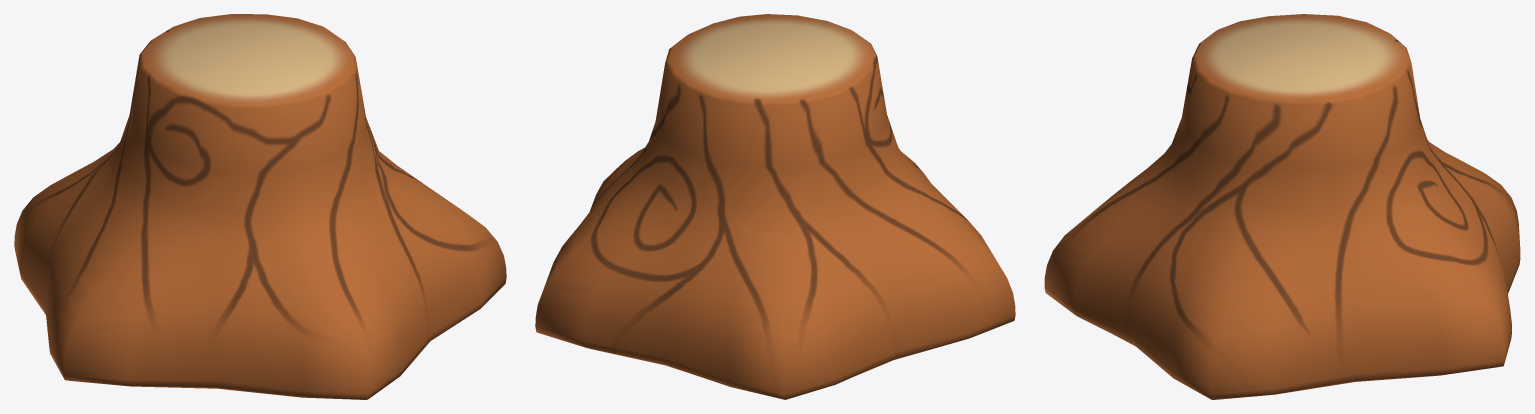
Rendered from cutted tree.fbx.
The picture shows the model from 3 angles, left to right: view 1: azimuth 30°, elevation 25°; view 2: azimuth 150°, elevation 25°; view 3: azimuth 270°, elevation 25°; orthographic projection. The views are drawn at different scales.
Visible parts, largest first — view 1: cutted tree; view 2: cutted tree; view 3: cutted tree.
Part boxes in pixels (bbox=[...]): cutted tree: bbox=[14, 14, 506, 399]; cutted tree: bbox=[535, 14, 1015, 399]; cutted tree: bbox=[1044, 14, 1520, 399].
Bounding box in the file's own units: 141 × 77.49 × 136.
Materials: 1 (1 with a texture image).
